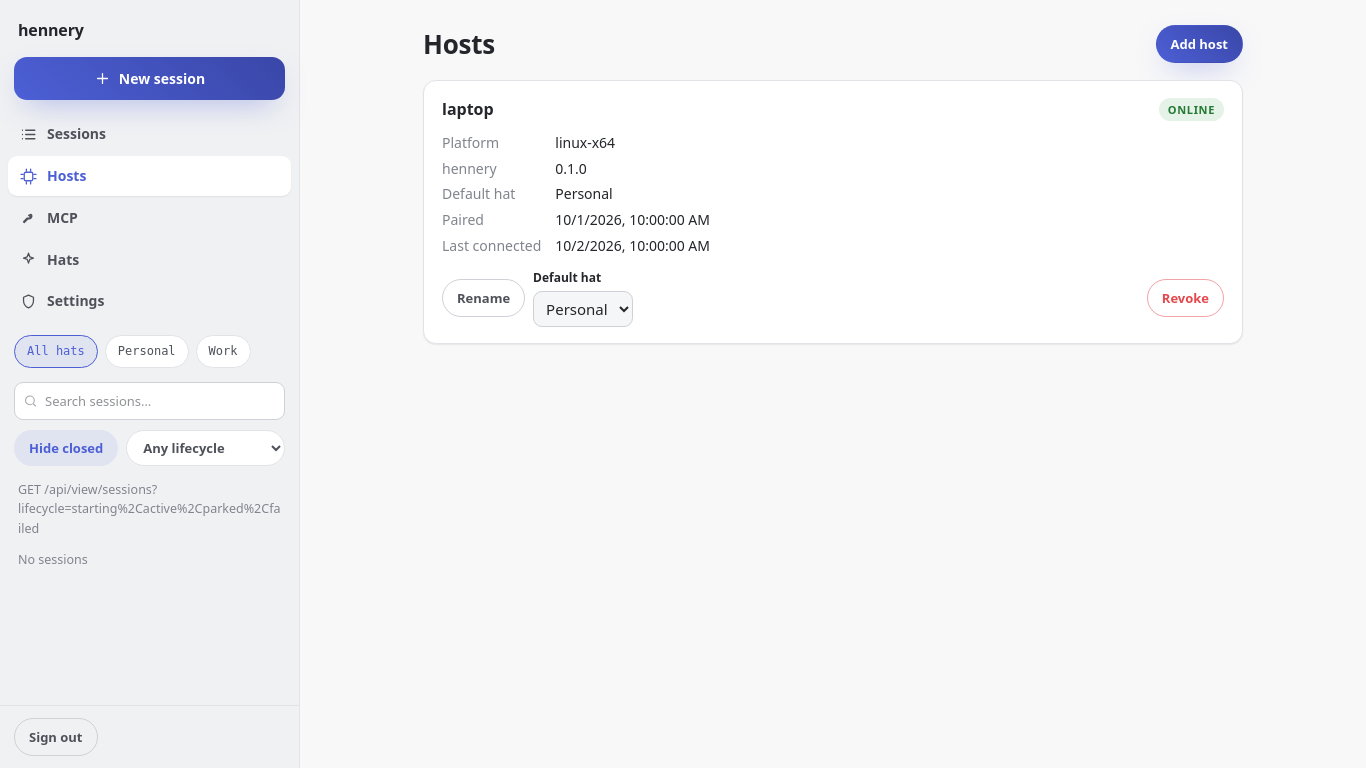
Scenario: adding a host › hides the code when the panel closes
What coordinates should you click on to do the following:
click the button "Add host"
I would click on:
 (1199, 44)
Its box is x1=1156 y1=25 x2=1243 y2=63.
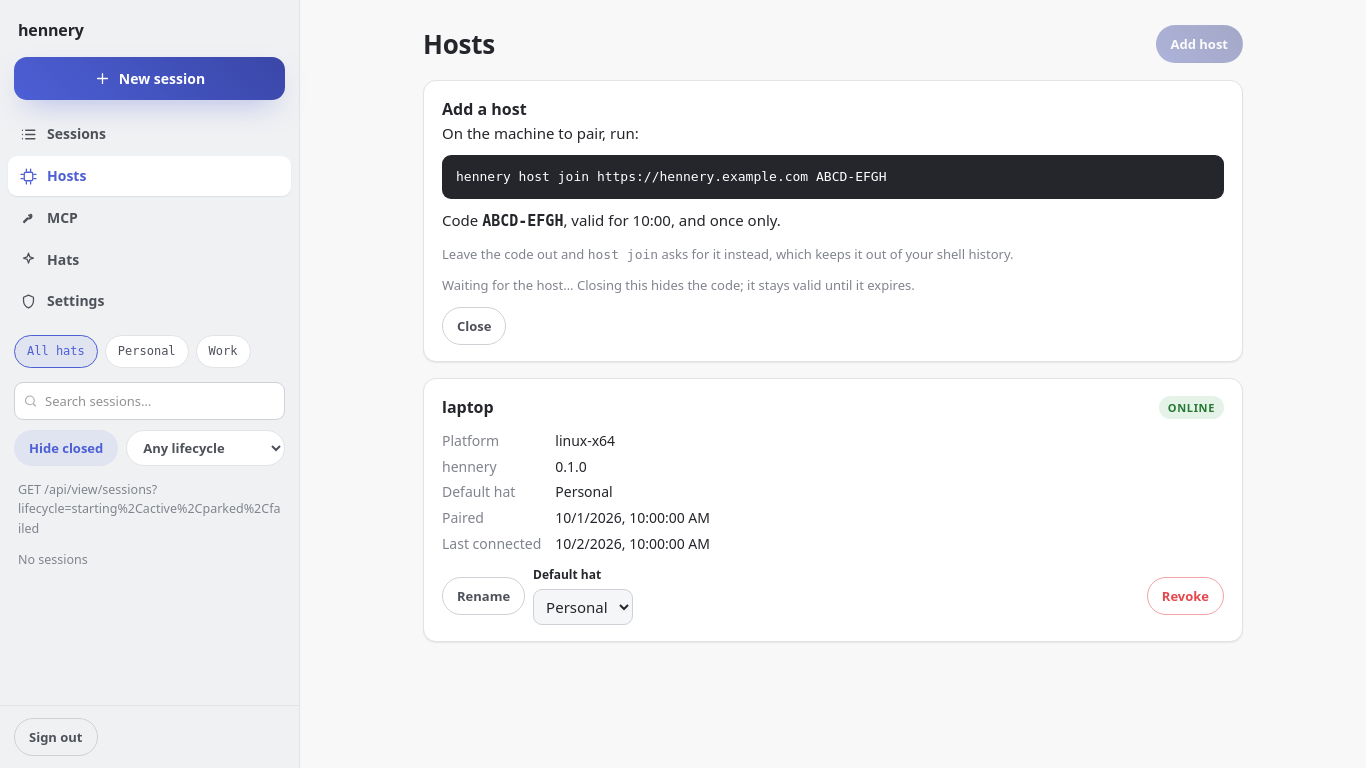
Expected: the element named "Pairing command" is shown, x1=442 y1=155 x2=1224 y2=199
What coordinates should you click on to do the following:
click the button "Close"
I would click on:
 (474, 326)
Its box is x1=442 y1=307 x2=506 y2=345.
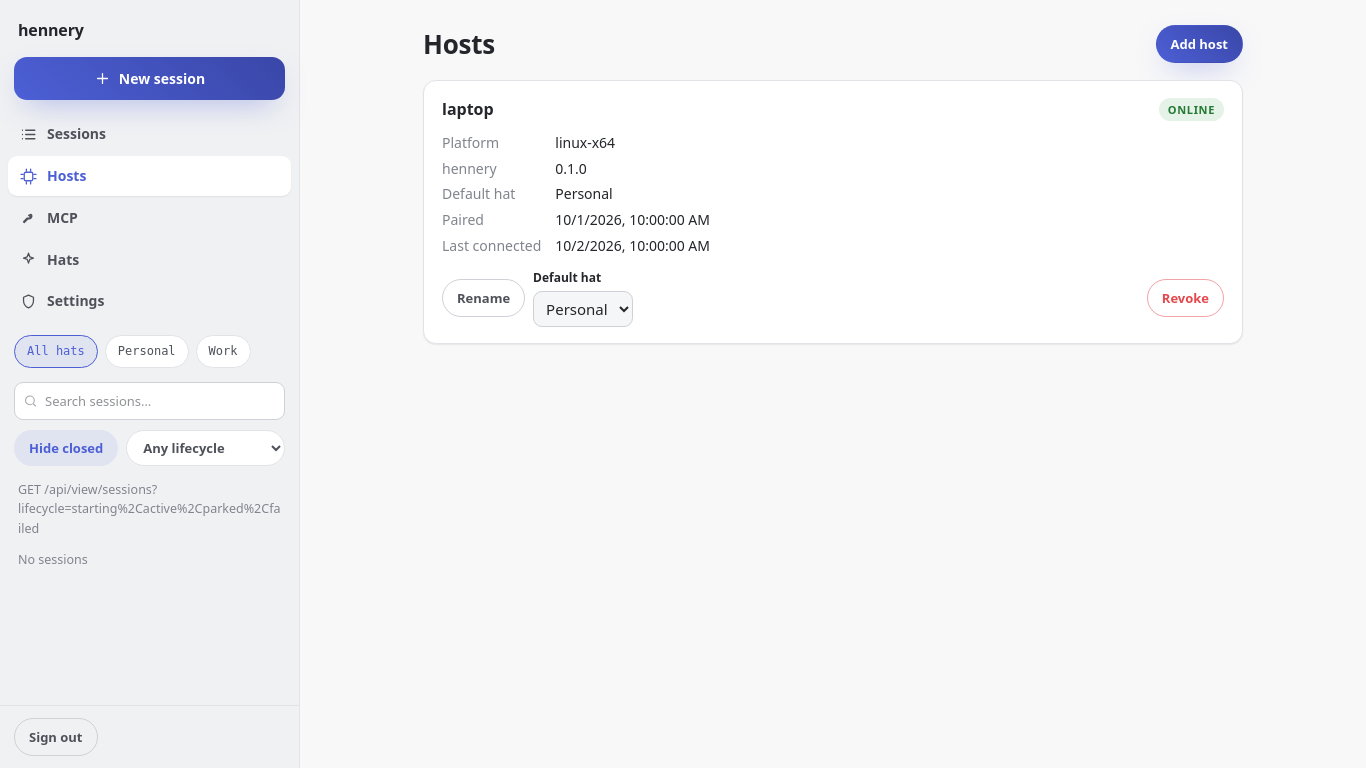
Expected: the text "ABCD-EFGH" is gone
